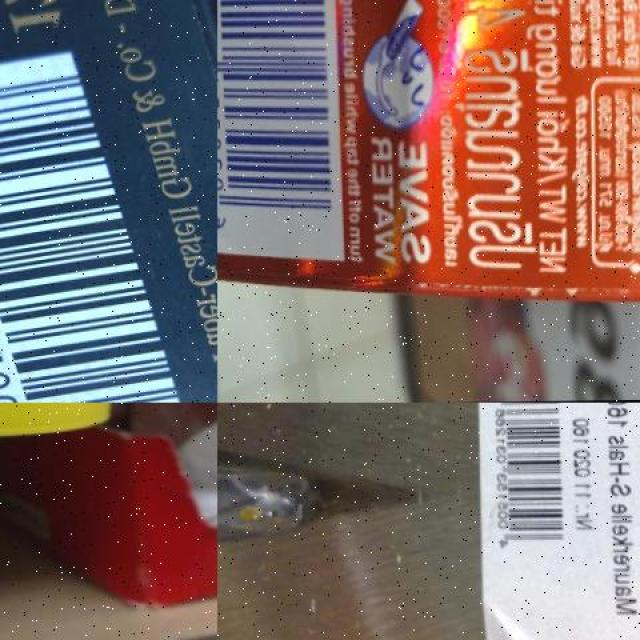Barcode: (0, 49, 191, 403), (217, 0, 336, 244), (482, 402, 570, 558)
